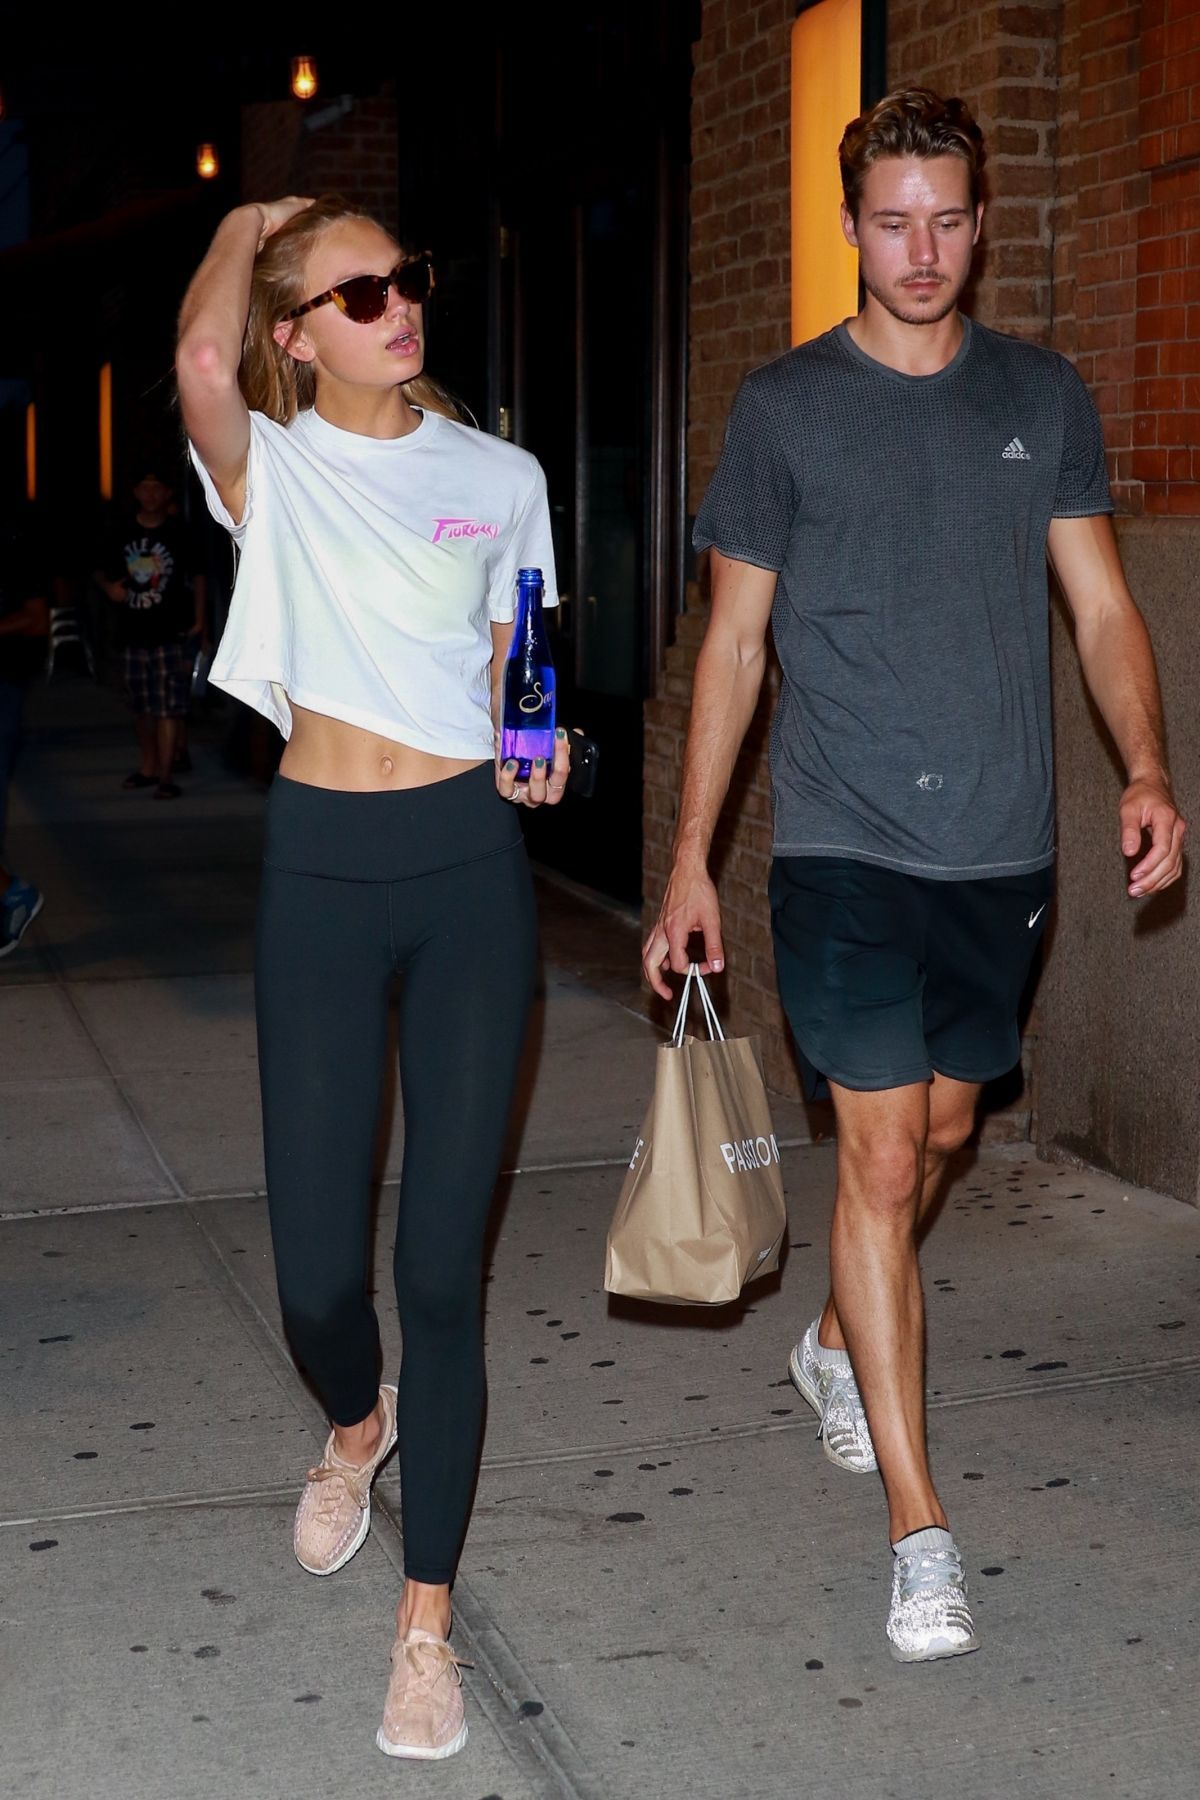Person: (639, 84, 1200, 1668), (172, 192, 574, 1765)
